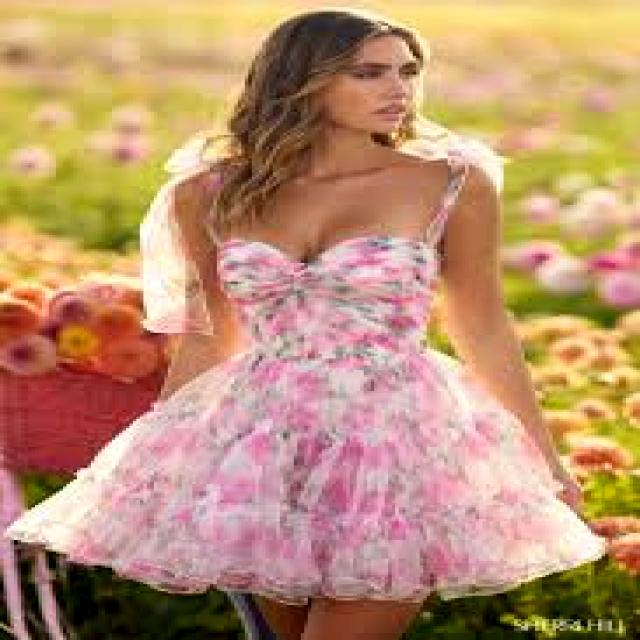dress: (4, 163, 608, 605)
